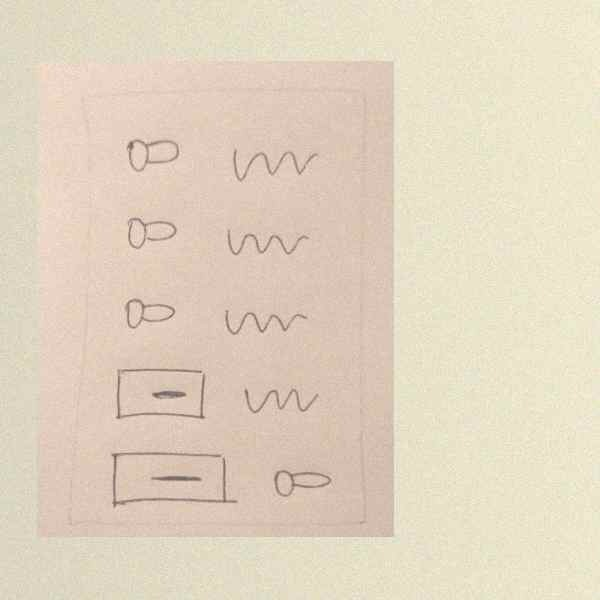button: (107, 447, 241, 512), (108, 365, 216, 429)
switch: (267, 458, 336, 507), (122, 133, 187, 180), (120, 212, 182, 260), (120, 292, 181, 335)
text: (234, 376, 326, 427), (220, 222, 314, 264), (217, 303, 315, 343), (226, 143, 322, 183)
